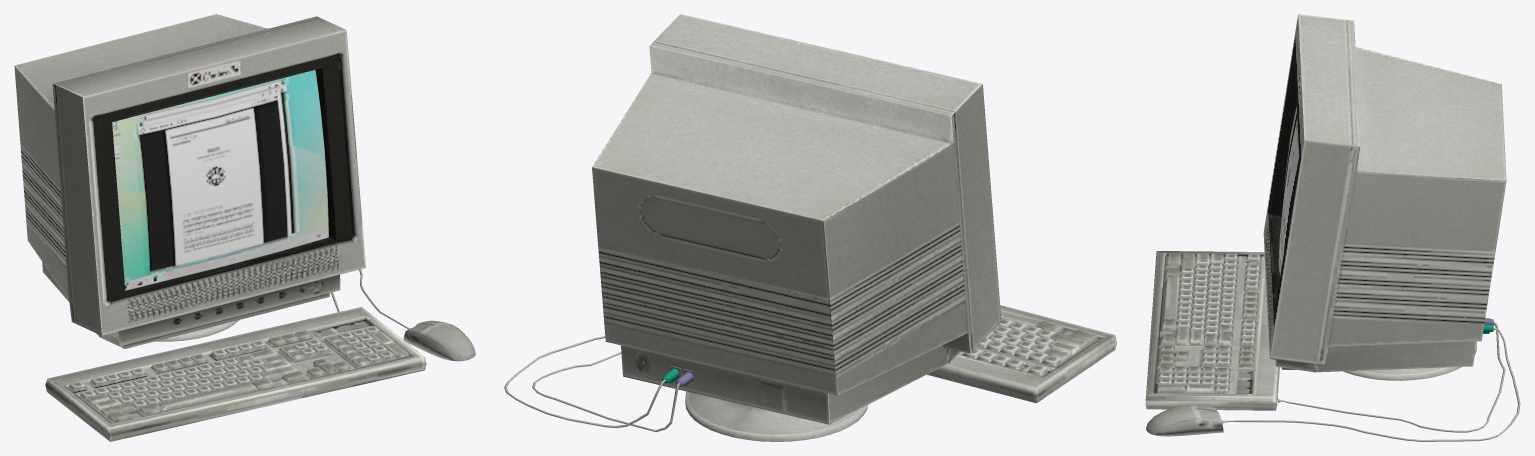
Rendered from sm74_050_labopc01a.fbx.
3 views of the same model, side by side, from view 1: azimuth 30°, elevation 25°; view 2: azimuth 150°, elevation 25°; view 3: azimuth 270°, elevation 25° (orthographic). The views are drawn at different scales.
Parts seen in each view (by area): view 1: LOD_1_Group_0_Sub_1__sm74_050_LaboPC01A_A_Mat__Env_default, LOD_1_Group_0_Sub_3__sm74_050_LaboPC01A_B_Mat__Env_Emissive; view 2: LOD_1_Group_0_Sub_1__sm74_050_LaboPC01A_A_Mat__Env_default, LOD_1_Group_0_Sub_2__sm31_068_IntegratedPc01A_A_Mat; view 3: LOD_1_Group_0_Sub_1__sm74_050_LaboPC01A_A_Mat__Env_default, LOD_1_Group_0_Sub_2__sm31_068_IntegratedPc01A_A_Mat, LOD_1_Group_0_Sub_3__sm74_050_LaboPC01A_B_Mat__Env_Emissive.
Boxes of the visible parts, <box> form: LOD_1_Group_0_Sub_1__sm74_050_LaboPC01A_A_Mat__Env_default: <box>14,14,475,441</box>; LOD_1_Group_0_Sub_3__sm74_050_LaboPC01A_B_Mat__Env_Emissive: <box>112,70,328,290</box>; LOD_1_Group_0_Sub_1__sm74_050_LaboPC01A_A_Mat__Env_default: <box>592,14,1116,441</box>; LOD_1_Group_0_Sub_2__sm31_068_IntegratedPc01A_A_Mat: <box>504,336,693,432</box>; LOD_1_Group_0_Sub_1__sm74_050_LaboPC01A_A_Mat__Env_default: <box>1145,14,1506,436</box>; LOD_1_Group_0_Sub_2__sm31_068_IntegratedPc01A_A_Mat: <box>1221,318,1520,441</box>; LOD_1_Group_0_Sub_3__sm74_050_LaboPC01A_B_Mat__Env_Emissive: <box>1278,106,1299,276</box>.
Bounding box in the file's own units: 0.5847 × 0.4129 × 0.5165.
